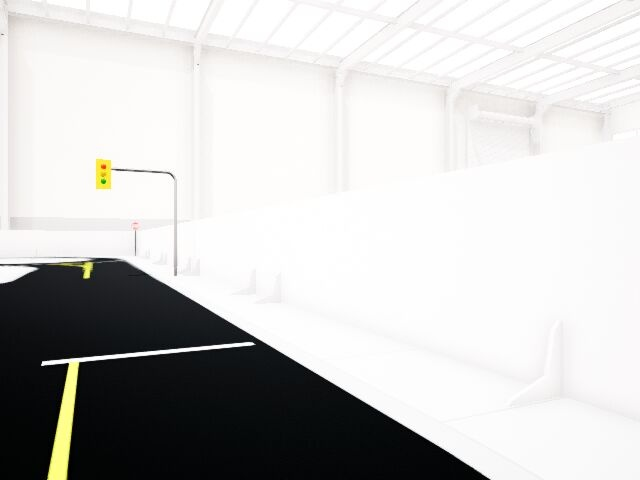red: (96, 159, 111, 189)
stopsign: (131, 220, 141, 231)
